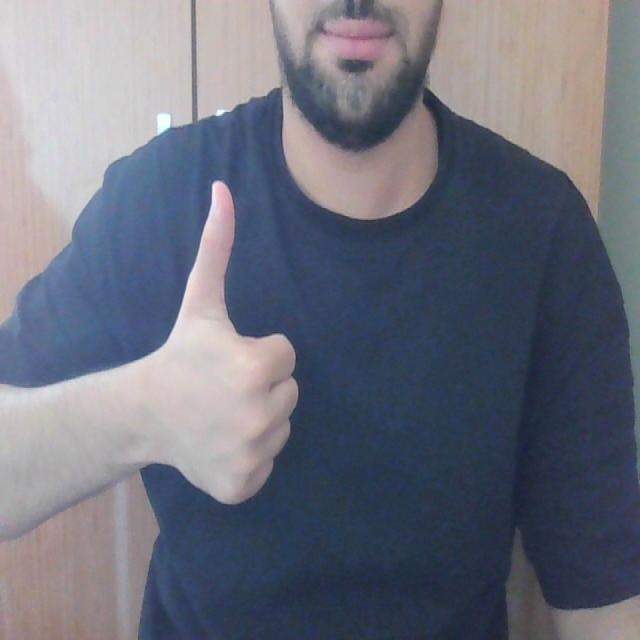Tamam: (138, 164, 302, 516)
